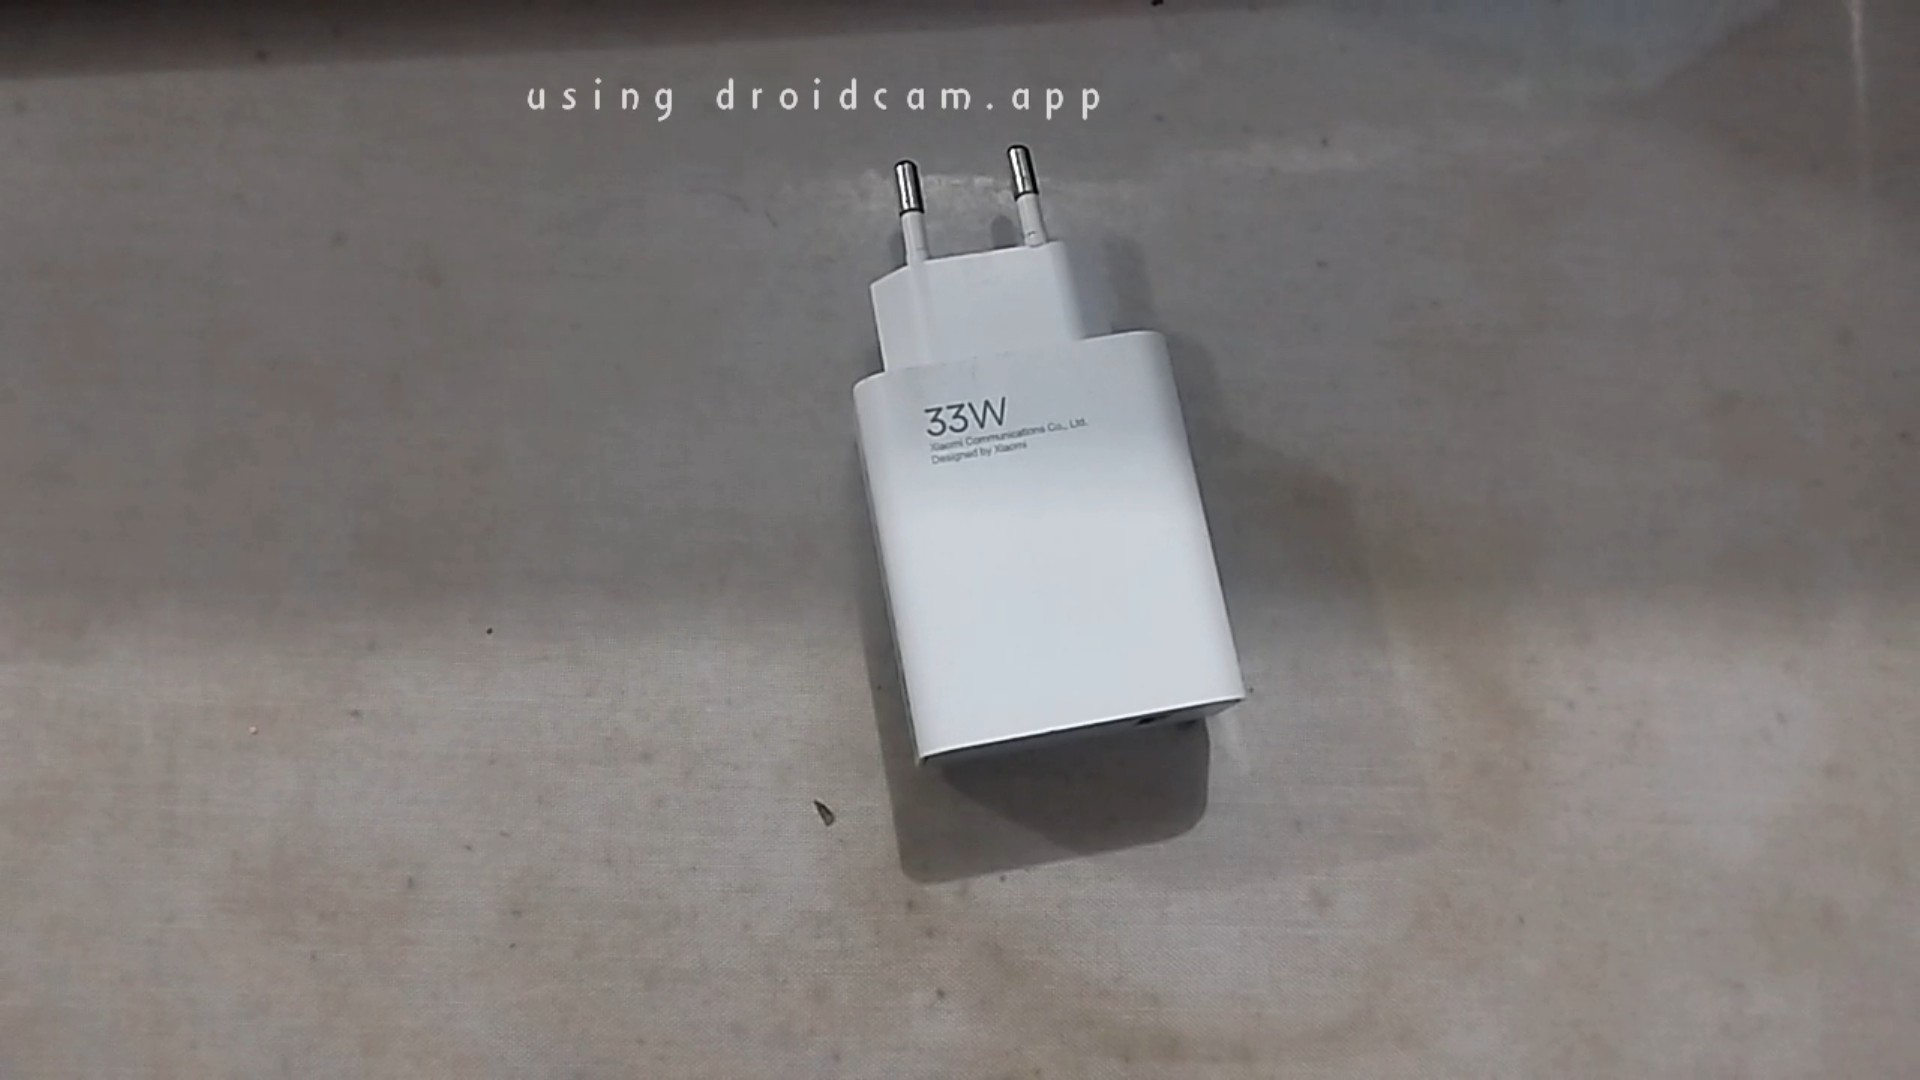adapter: (802, 177, 1158, 785)
